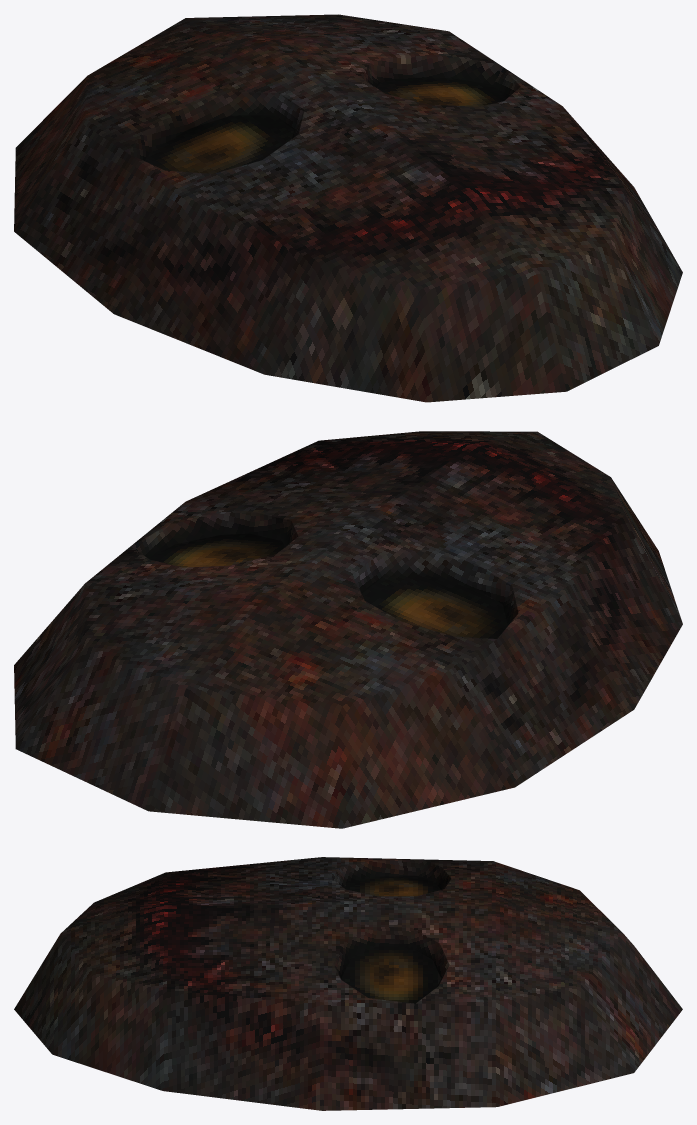
Rendered from mask_mx_5_1.glb.
3 renders of one model, top to bottom at view 1: azimuth 30°, elevation 25°; view 2: azimuth 150°, elevation 25°; view 3: azimuth 270°, elevation 25°, orthographic. The views are drawn at different scales.
Parts seen in each view (by area): view 1: mask_mx_5_1; view 2: mask_mx_5_1; view 3: mask_mx_5_1.
Boxes of the visible parts, bbox=[...] form: mask_mx_5_1: bbox=[14, 14, 682, 402]; mask_mx_5_1: bbox=[14, 431, 682, 828]; mask_mx_5_1: bbox=[14, 857, 682, 1110].
Size of the model in its own units: 0.2297 by 0.0554 by 0.3198.
Materials: 1 (1 with a texture image).
